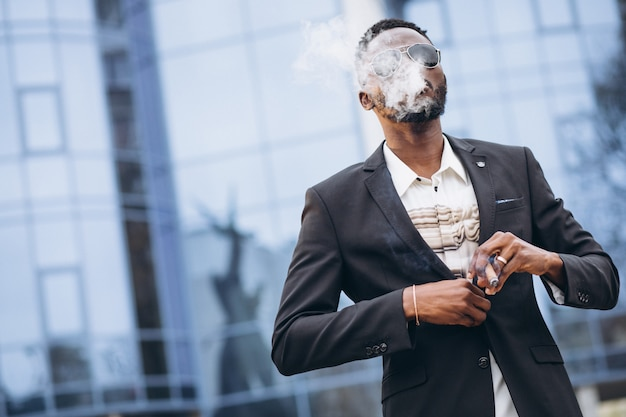cigarette: (480, 255, 500, 288)
